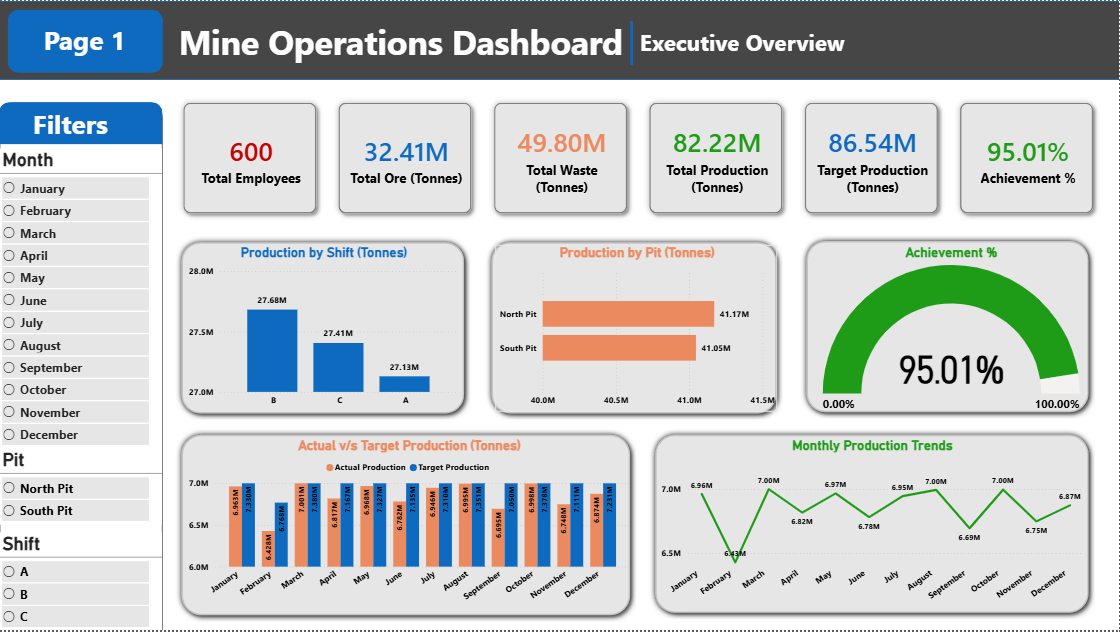

The page's visual inventory and layout, read from the dashboard file:
{"tool":"powerbi","page":{"name":"Page 1","canvas":[1600,900],"ordinal":0},"visuals":[{"type":"shape","box":[0,0,1800,112.5],"z":0},{"type":"shape","box":[11.7,11.7,221.7,90],"z":1000},{"type":"textbox","box":[10,24.2,223.3,78.3],"z":2000},{"type":"textbox","box":[252.5,18.8,690,93.8],"z":3000},{"type":"shape","box":[695,28.3,418.3,63.3],"z":4000},{"type":"textbox","box":[911.2,32.5,516.2,80],"z":5000},{"type":"cardVisual","fields":{"Data":["public mine.Total Employees","public mine.Total Ore","public mine.Total Waste","public mine.Total Production","public mine.Target Production","public mine.Achievement %"]},"box":[232.5,115,1367.5,220],"z":6000},{"type":"shape","box":[252.5,335,421.7,262.5],"z":7000},{"type":"columnChart","title":"Production by Shift (Tonnes)","fields":{"Category":["public mine.shift"],"Y":["Sum(public mine.actual_tonnes)"]},"box":[266,348,396,240],"z":8000},{"type":"shape","box":[1145,333.3,420.8,262.5],"z":9000},{"type":"shape","box":[694.2,335,425,262.5],"z":10000},{"type":"clusteredBarChart","title":"Production by Pit (Tonnes)","fields":{"Category":["public mine.pit"],"Y":["Sum(public mine.actual_tonnes)"]},"box":[708.3,348.3,405,240],"z":11000},{"type":"gauge","title":"Achievement %","fields":{"Y":["public mine.Achievement %"]},"box":[1163.8,347.5,392.5,248.8],"z":12000},{"type":"shape","box":[252.5,610,658.8,275.6],"z":13000},{"type":"shape","box":[928.5,611.5,636.9,272.3],"z":14000},{"type":"clusteredColumnChart","title":"Actual  v/s Target Production (Tonnes)","fields":{"Y":["Sum(public mine.actual_tonnes)","Sum(public mine.target_tonnes)"],"Category":["public mine.date.Variation.Date Hierarchy.Month"]},"box":[266.7,623.3,640,251.7],"z":15000},{"type":"lineChart","title":"Monthly Production Trends","fields":{"Category":["public mine.date.Variation.Date Hierarchy.Month"],"Y":["Sum(public mine.actual_tonnes)"]},"box":[941.7,623.3,613.3,251.7],"z":16000},{"type":"shape","box":[0,144.4,234.4,755.6],"z":17000},{"type":"shape","box":[0,144.4,233.3,60],"z":18000},{"type":"textbox","box":[0,144,204,60],"z":19000},{"type":"listSlicer","title":"     Month","fields":{"Values":["public mine.date.Variation.Date Hierarchy.Month"]},"box":[0,210,232.5,429.4],"z":20000},{"type":"listSlicer","title":"Pit","fields":{"Values":["public mine.pit"]},"box":[0,640,232.9,108.6],"z":21000},{"type":"listSlicer","title":"Shift","fields":{"Values":["public mine.shift"]},"box":[0,758.1,232.5,141.9],"z":22000}]}

Visuals, with their boxes in screenshot pixels (x1, y1, x2, y2), scaled from the page's 1600x900 canvas onto the 1120x632 screenshot:
shape: x1=0 y1=0 x2=1119 y2=79
shape: x1=8 y1=8 x2=163 y2=71
textbox: x1=7 y1=17 x2=163 y2=72
textbox: x1=177 y1=13 x2=660 y2=79
shape: x1=486 y1=20 x2=779 y2=64
textbox: x1=638 y1=23 x2=999 y2=79
cardVisual - public mine.Total Employees x public mine.Total Ore: x1=163 y1=81 x2=1119 y2=235
shape: x1=177 y1=235 x2=472 y2=420
"Production by Shift (Tonnes)" columnChart: x1=186 y1=244 x2=463 y2=413
shape: x1=802 y1=234 x2=1096 y2=418
shape: x1=486 y1=235 x2=783 y2=420
"Production by Pit (Tonnes)" clusteredBarChart: x1=496 y1=245 x2=779 y2=413
"Achievement %" gauge: x1=815 y1=244 x2=1089 y2=419
shape: x1=177 y1=428 x2=638 y2=622
shape: x1=650 y1=429 x2=1096 y2=621
"Actual  v/s Target Production (Tonnes)" clusteredColumnChart: x1=187 y1=438 x2=635 y2=614
"Monthly Production Trends" lineChart: x1=659 y1=438 x2=1088 y2=614
shape: x1=0 y1=101 x2=164 y2=631
shape: x1=0 y1=101 x2=163 y2=144
textbox: x1=0 y1=101 x2=143 y2=143
"     Month" listSlicer: x1=0 y1=147 x2=163 y2=449
"Pit" listSlicer: x1=0 y1=449 x2=163 y2=526
"Shift" listSlicer: x1=0 y1=532 x2=163 y2=631
